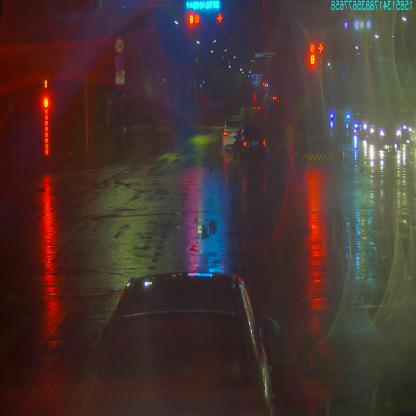traffic-light: (184, 0, 221, 12), (187, 14, 200, 28), (215, 12, 225, 24)
